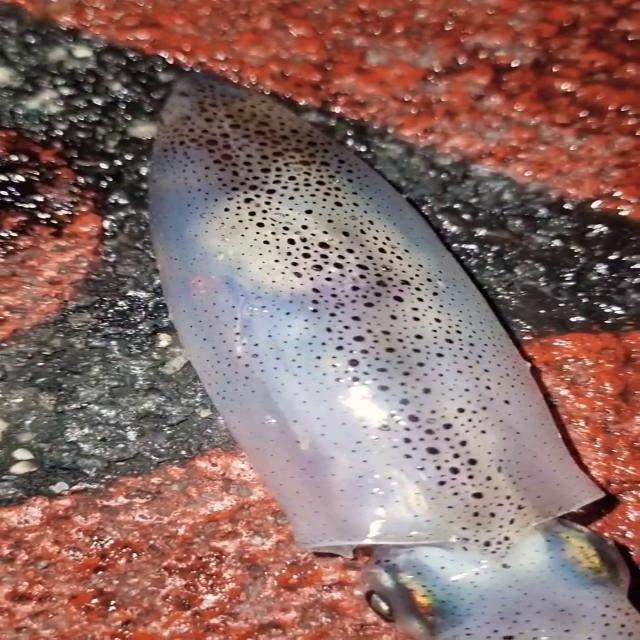SQUID: (131, 41, 640, 640)
